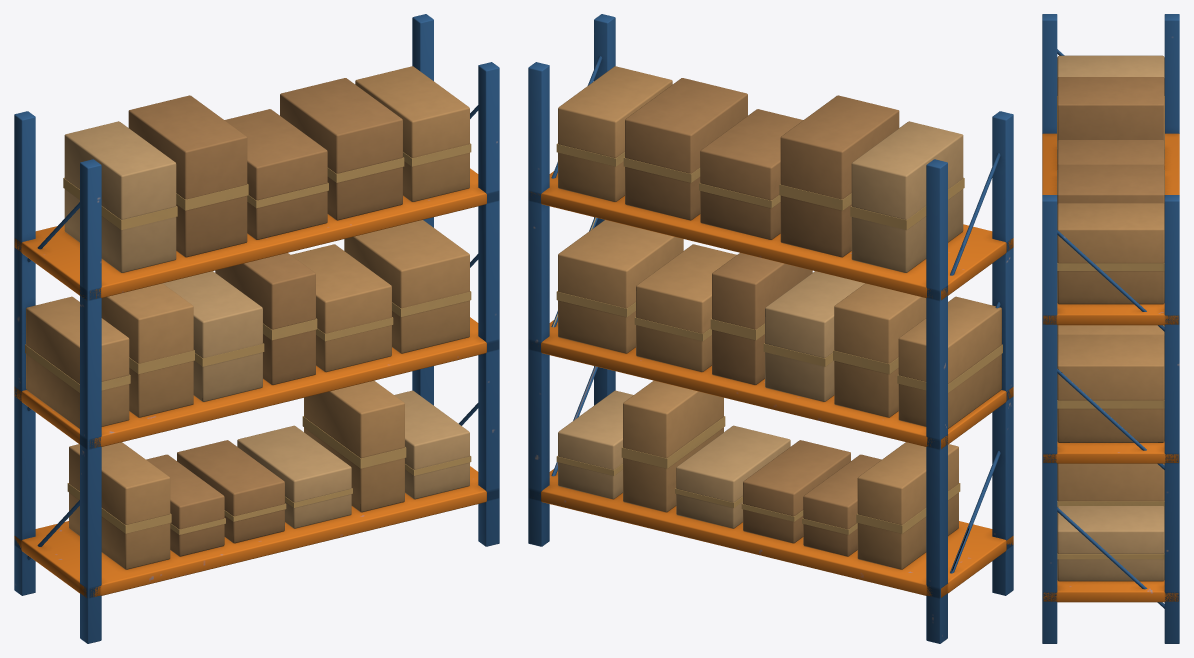
Rendered from prop_rack.fbx.
3 views of the same model, side by side, from view 1: azimuth 30°, elevation 25°; view 2: azimuth 150°, elevation 25°; view 3: azimuth 270°, elevation 25° (orthographic). The views are drawn at different scales.
Parts seen in each view (by area): view 1: prop_rack; view 2: prop_rack; view 3: prop_rack.
Boxes of the visible parts, box(x1,y1,x2,y2) form: prop_rack: box(14, 14, 499, 643); prop_rack: box(528, 14, 1013, 643); prop_rack: box(1042, 14, 1179, 643).
Size of the model in its own units: 2.9 by 3.2 by 0.9.
